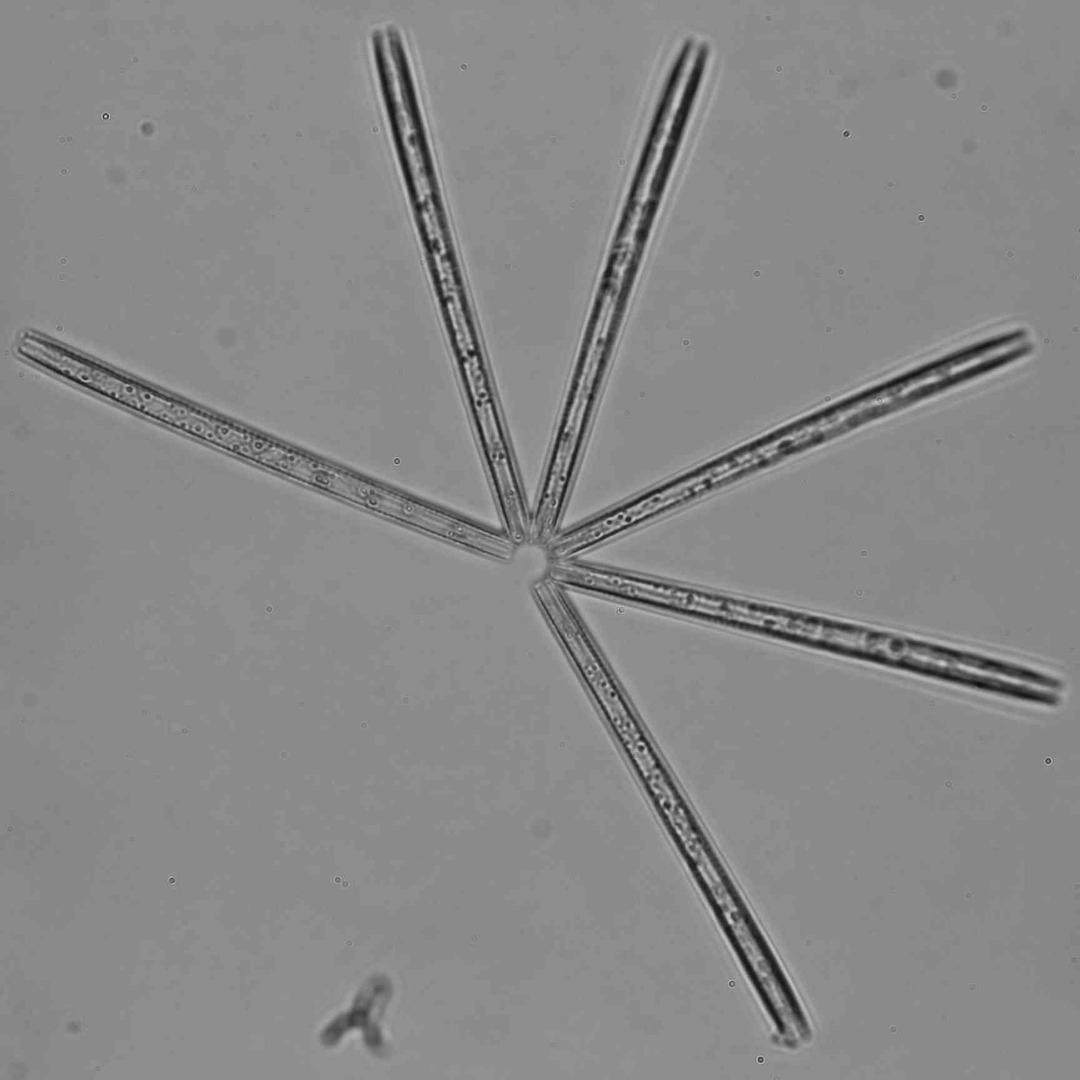thalassionema_nitzschioides: (16, 25, 1064, 1051)
